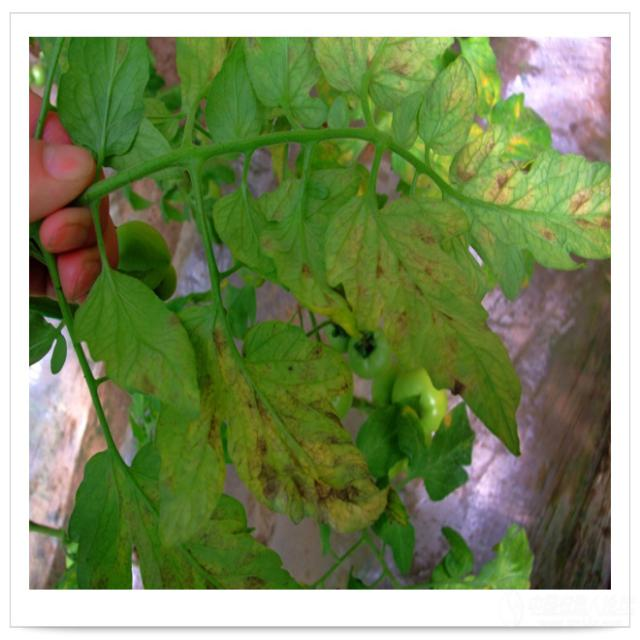Leaf_Mold: (342, 205, 524, 458), (190, 324, 403, 535), (451, 128, 539, 215), (313, 34, 445, 90), (151, 534, 266, 593), (567, 172, 615, 239), (443, 68, 475, 123), (203, 36, 230, 83), (82, 562, 111, 591), (292, 250, 313, 286), (311, 293, 340, 319), (534, 223, 559, 249)
